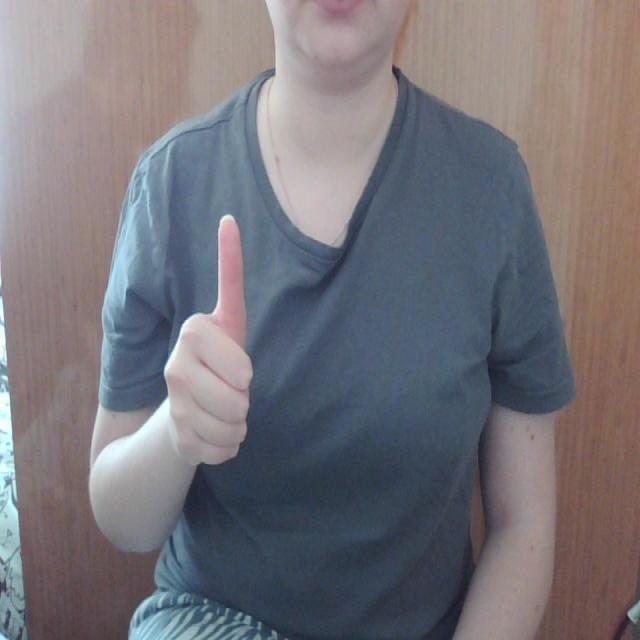Tamam: (160, 208, 260, 480)
